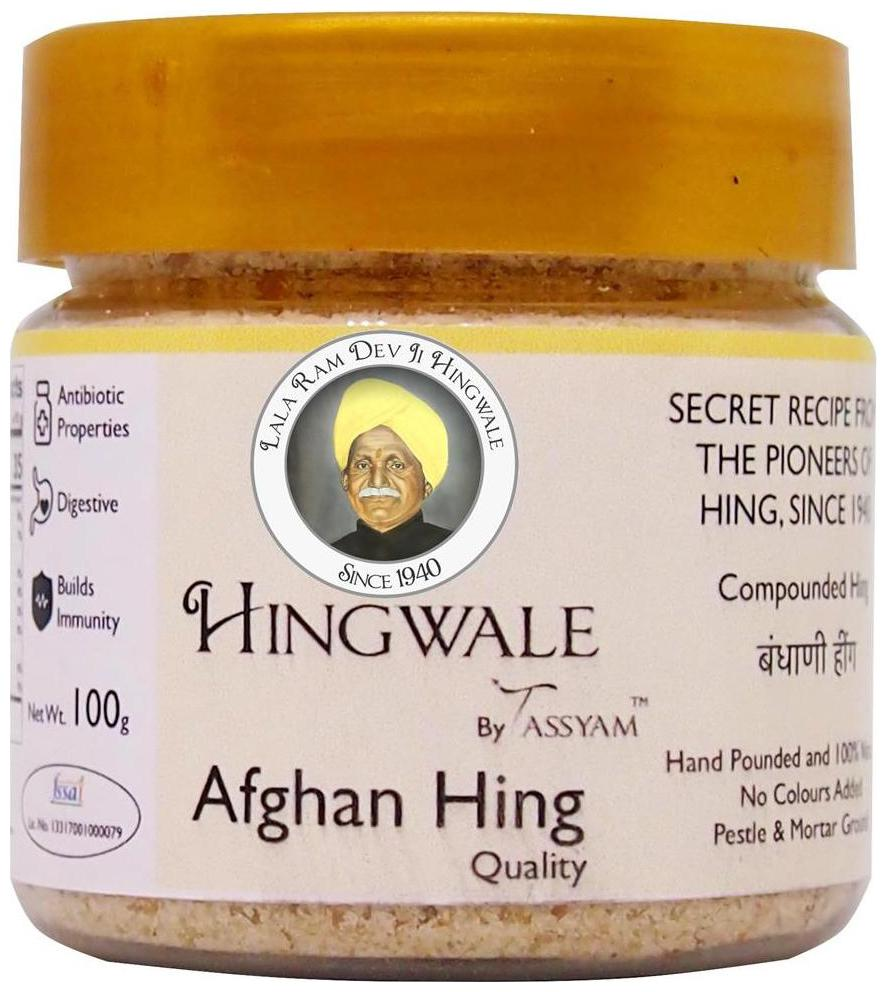fssai: (50, 770, 88, 807)
